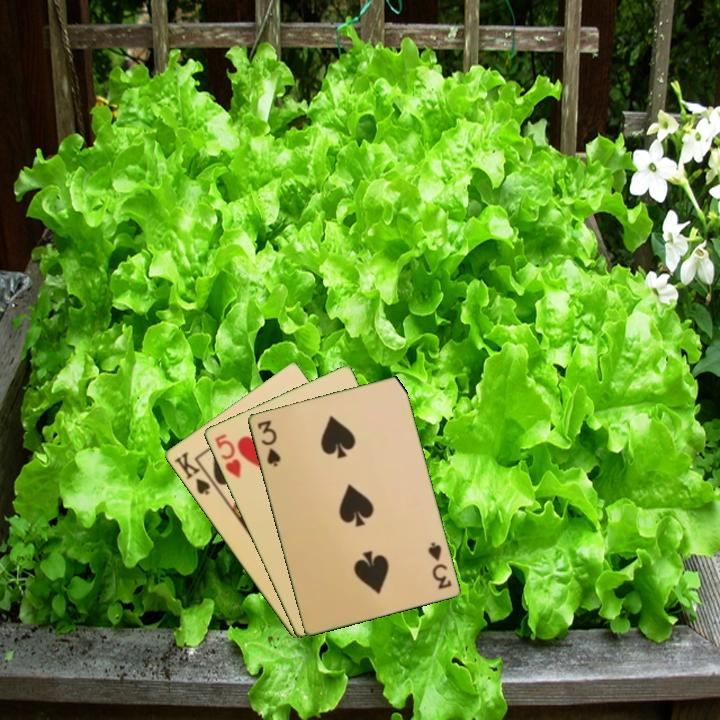3s: (424, 538, 454, 592), (254, 417, 283, 469)
5h: (211, 430, 244, 481)
Ks: (170, 448, 218, 498)
